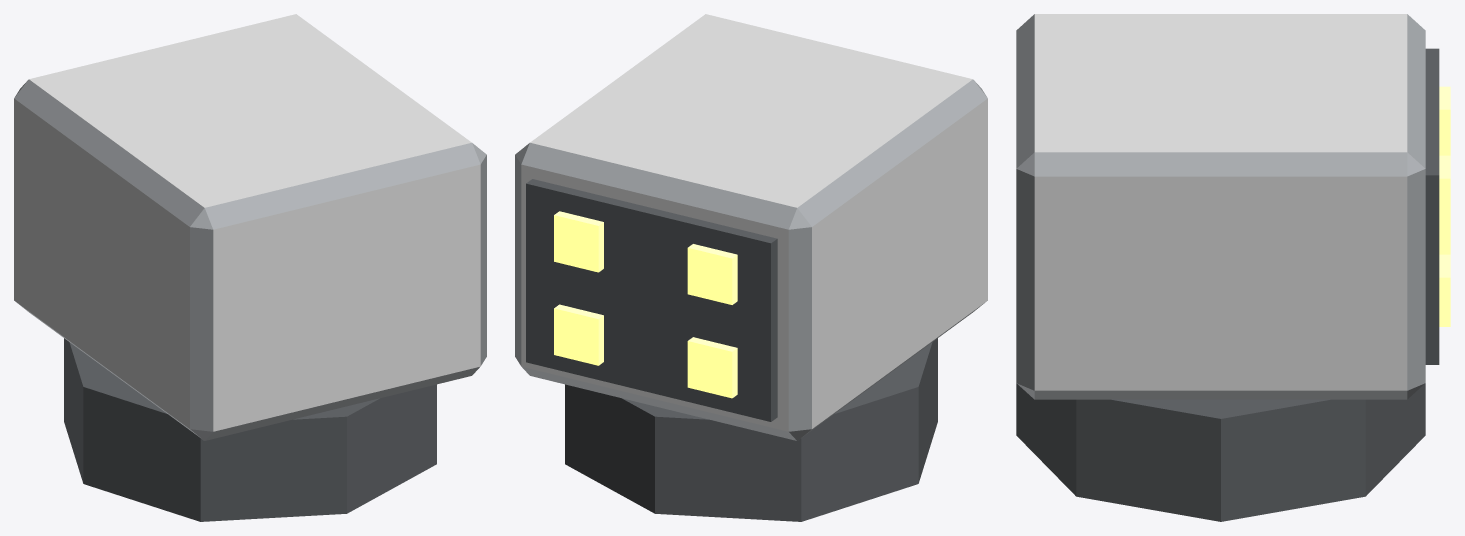
The model's file is missile_pod_m.glb.
The picture shows the model from 3 angles, left to right: view 1: azimuth 30°, elevation 25°; view 2: azimuth 150°, elevation 25°; view 3: azimuth 270°, elevation 25°; orthographic projection. The views are drawn at different scales.
Parts seen in each view (by area): view 1: missile_pod_m_LOD0; view 2: missile_pod_m_LOD0; view 3: missile_pod_m_LOD0.
Boxes of the visible parts, x1,y1,x2,y2 form: missile_pod_m_LOD0: [14, 14, 486, 521]; missile_pod_m_LOD0: [515, 14, 987, 521]; missile_pod_m_LOD0: [1016, 14, 1450, 521].
Size of what is drawn, in the model's own units: 0.9 by 0.855 by 0.955.
